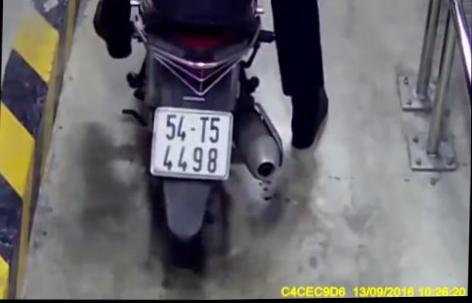LP: (148, 104, 234, 184)
